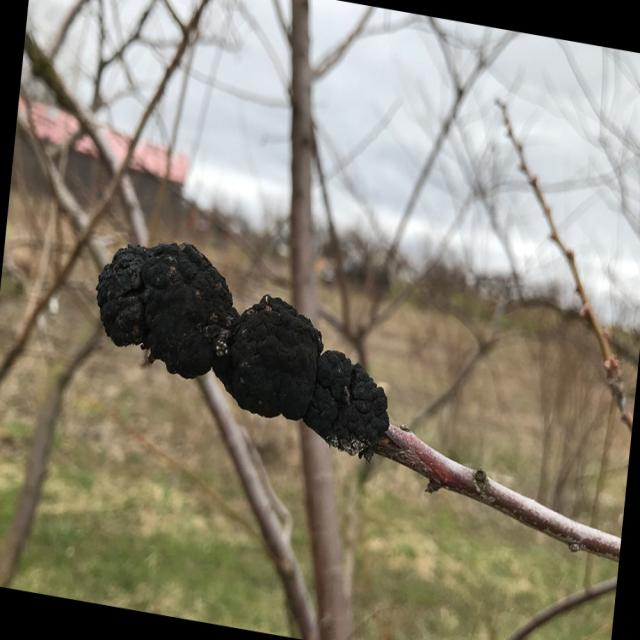Black_knot: (95, 236, 392, 462), (94, 238, 236, 379)
